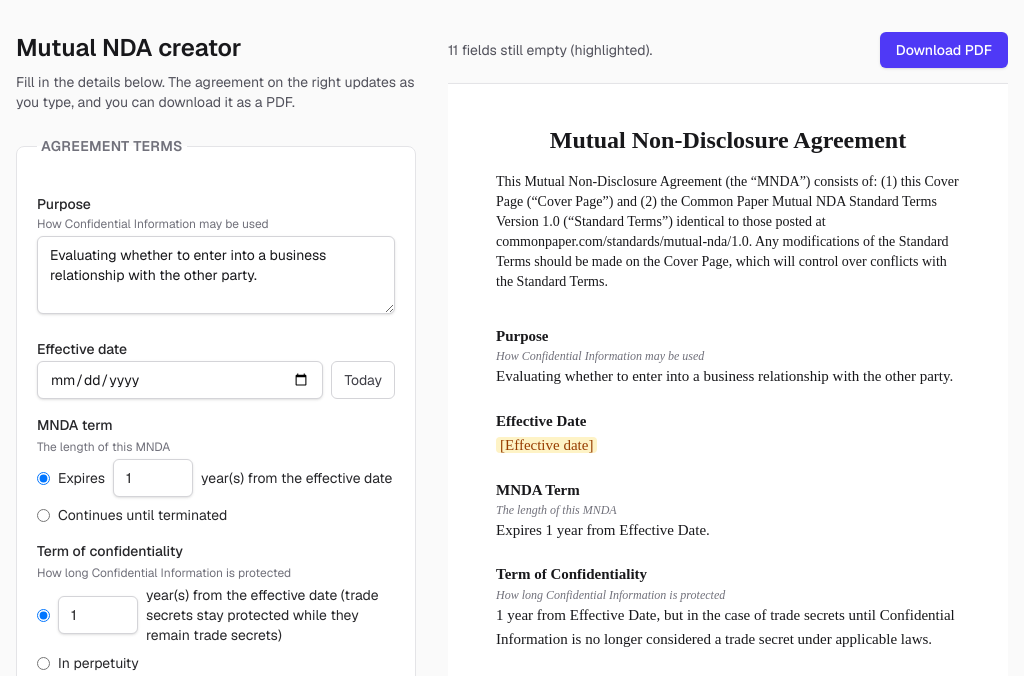
Test case: NdaBuilder › switches MNDA term options and disables the unused years input
The width and height of the screenshot is (1024, 676).
Replace the text in the number field named "MNDA term in years" with "3" at (153, 478), box [113,459,193,497]
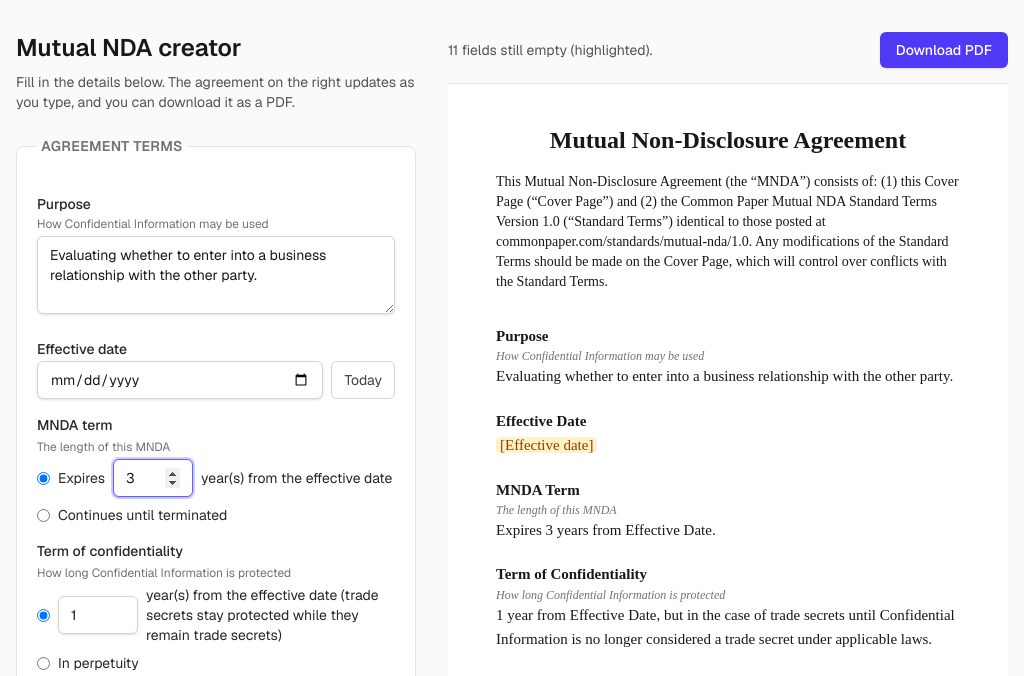
Click the radio button labelled "Continues until terminated" at (44, 515), box [37,508,50,522]
(page scrolled)
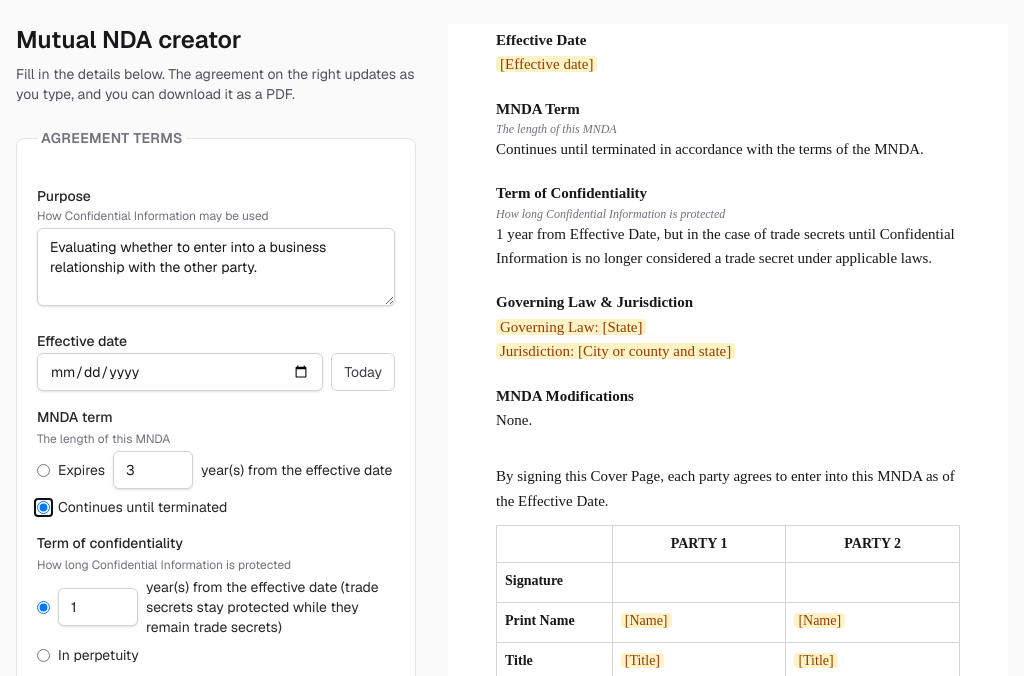
Expected: the number field named "MNDA term in years" is disabled, [113,451,193,489]
Expected: the element that starts with "Mutual Non-Disclosure Agreement" shows "Continues until terminated in accordance with the terms of the MNDA.", [496,141,924,157]
